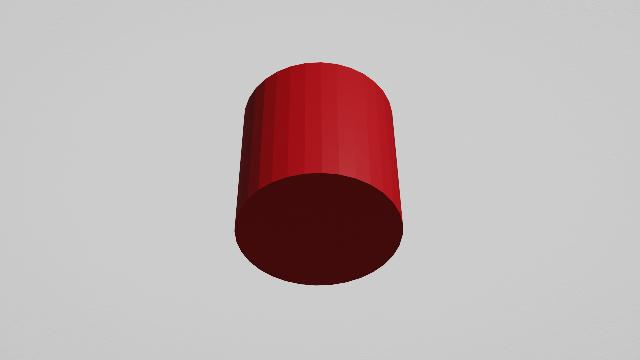Cylinder: (231, 61, 419, 288)
